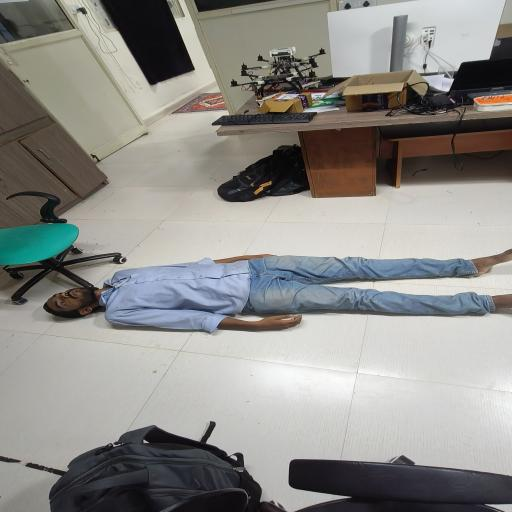survivor: (42, 248, 512, 332)
